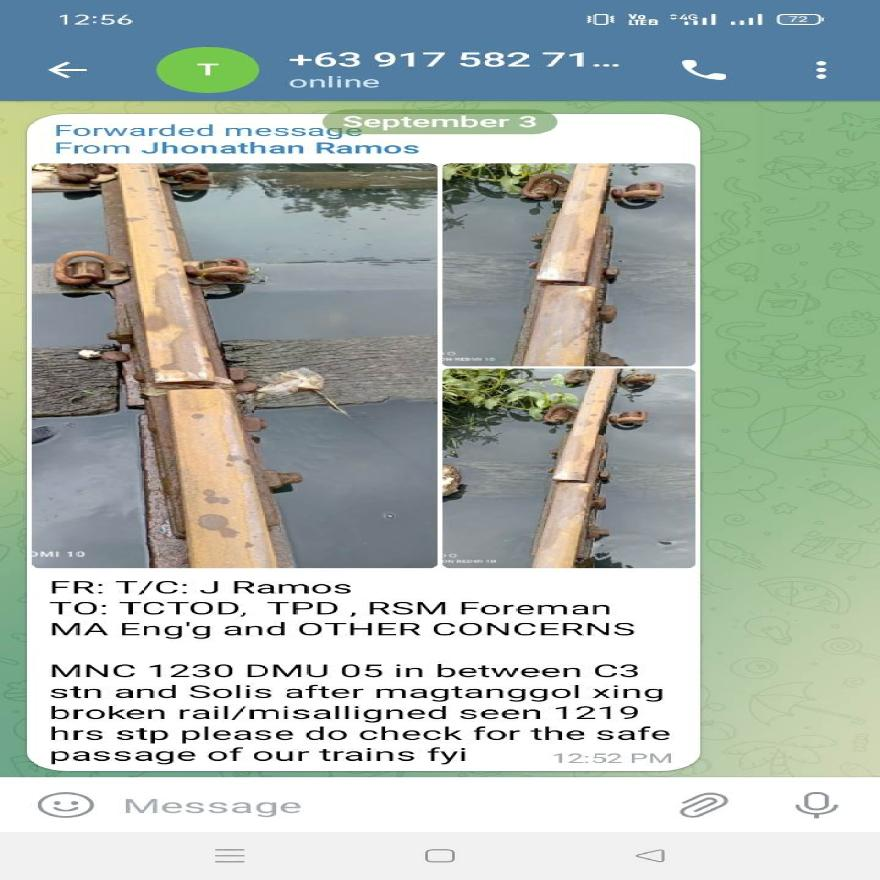railway-gap: (90, 333, 285, 436), (486, 246, 643, 319), (500, 450, 648, 519)
